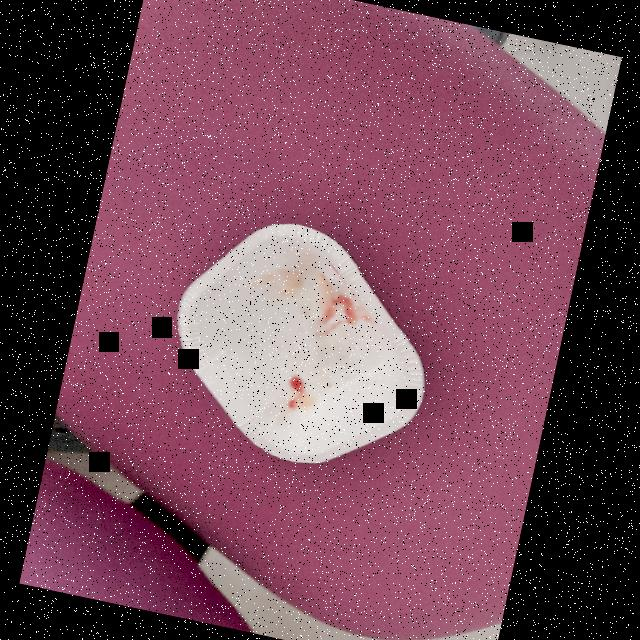cardboard_bowl: (136, 194, 468, 502)
